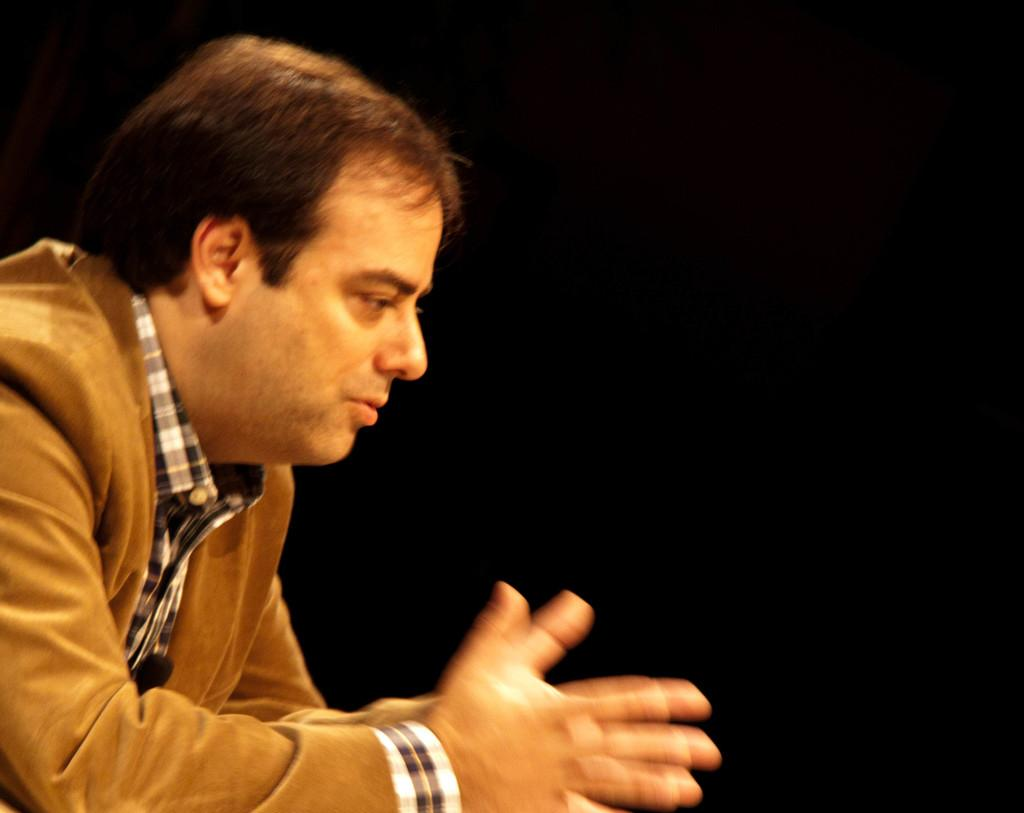Sem Máscara: (216, 145, 439, 461)
